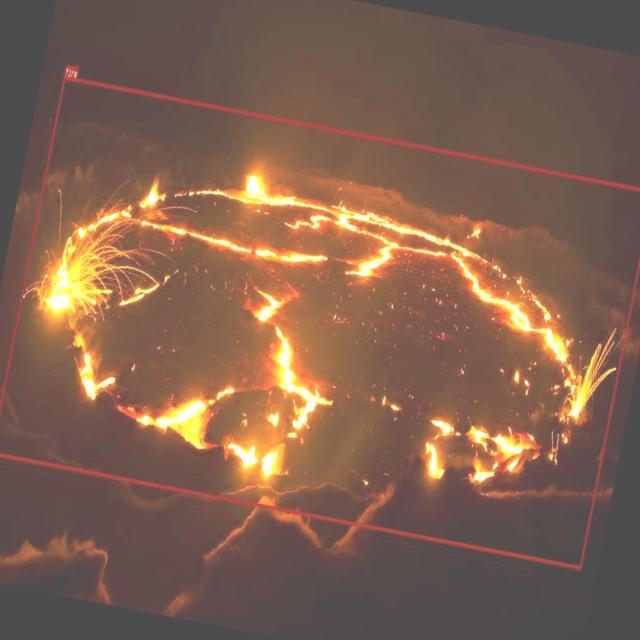fire: (0, 76, 640, 569)
